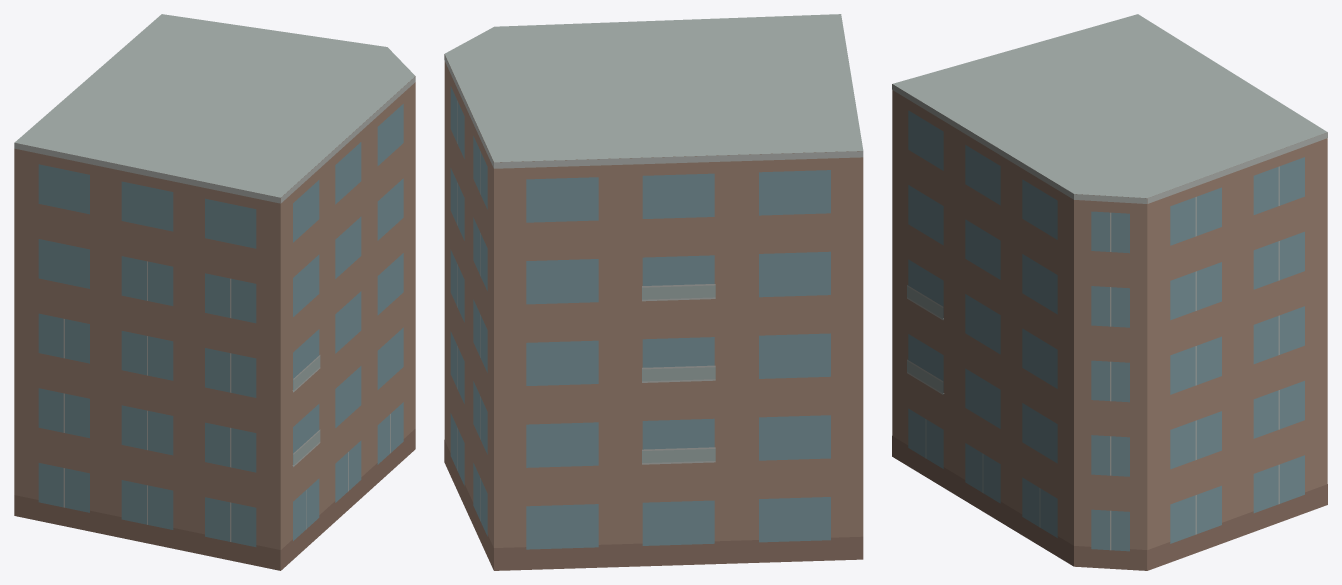
File: survey-upis-32670820.glb
3 views of the same model, side by side, from view 1: azimuth 30°, elevation 25°; view 2: azimuth 150°, elevation 25°; view 3: azimuth 270°, elevation 25° (orthographic). The views are drawn at different scales.
Visible parts, largest first — view 1: survey-upis-32670820.tmp; view 2: survey-upis-32670820.tmp; view 3: survey-upis-32670820.tmp.
Boxes of the visible parts, x1,y1,x2,y2 form: survey-upis-32670820.tmp: (14,14,415,570); survey-upis-32670820.tmp: (444,14,863,570); survey-upis-32670820.tmp: (892,14,1327,570).
Size of the model in its own units: 16.33 by 15.4 by 16.32.
